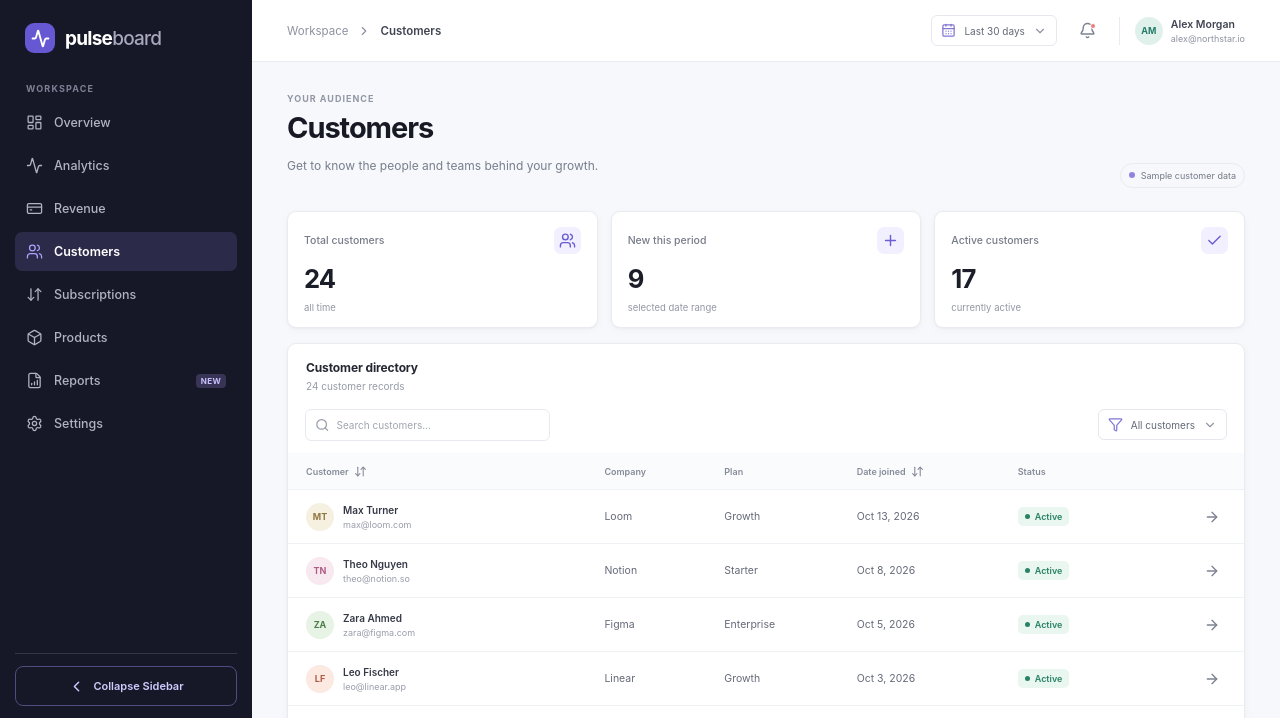
Test: PulseBoard application › filters subscriptions by status
Click the link "Subscriptions" at {"x": 81, "y": 294}, box [26, 286, 136, 303]
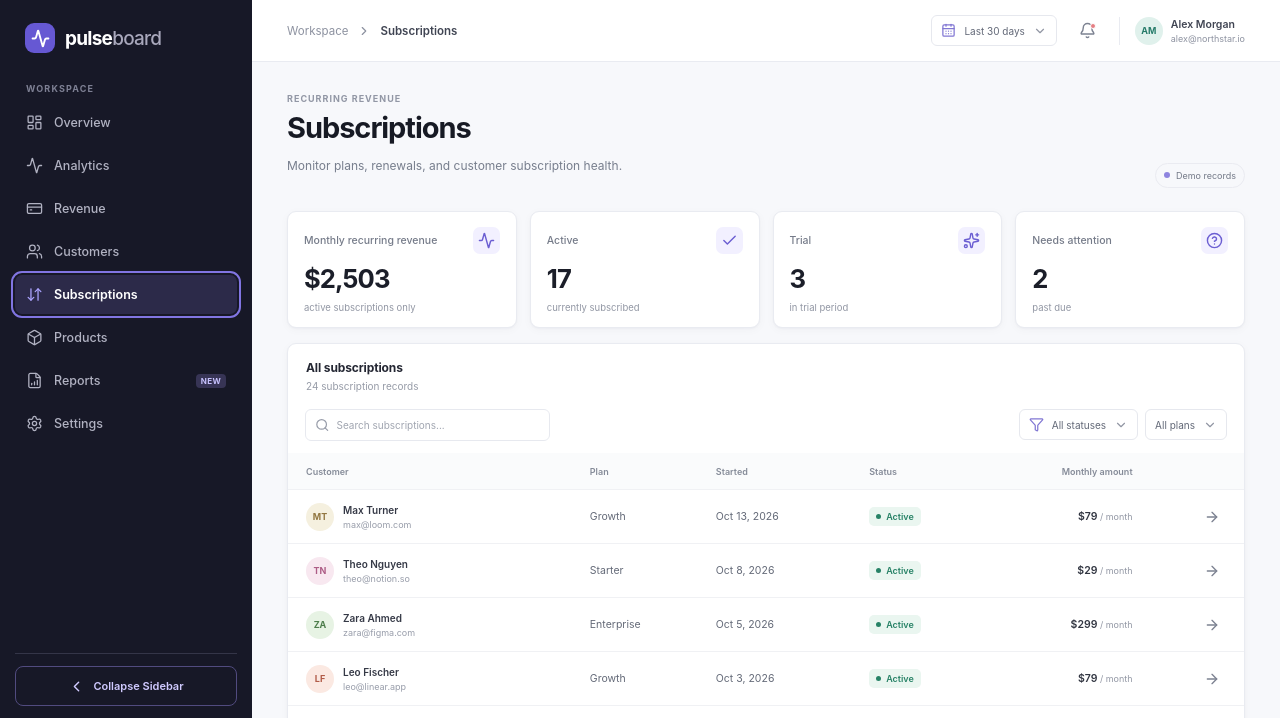
Click the button with aria-label "Filter subscriptions by status" at {"x": 1078, "y": 425}, box [1019, 409, 1138, 440]
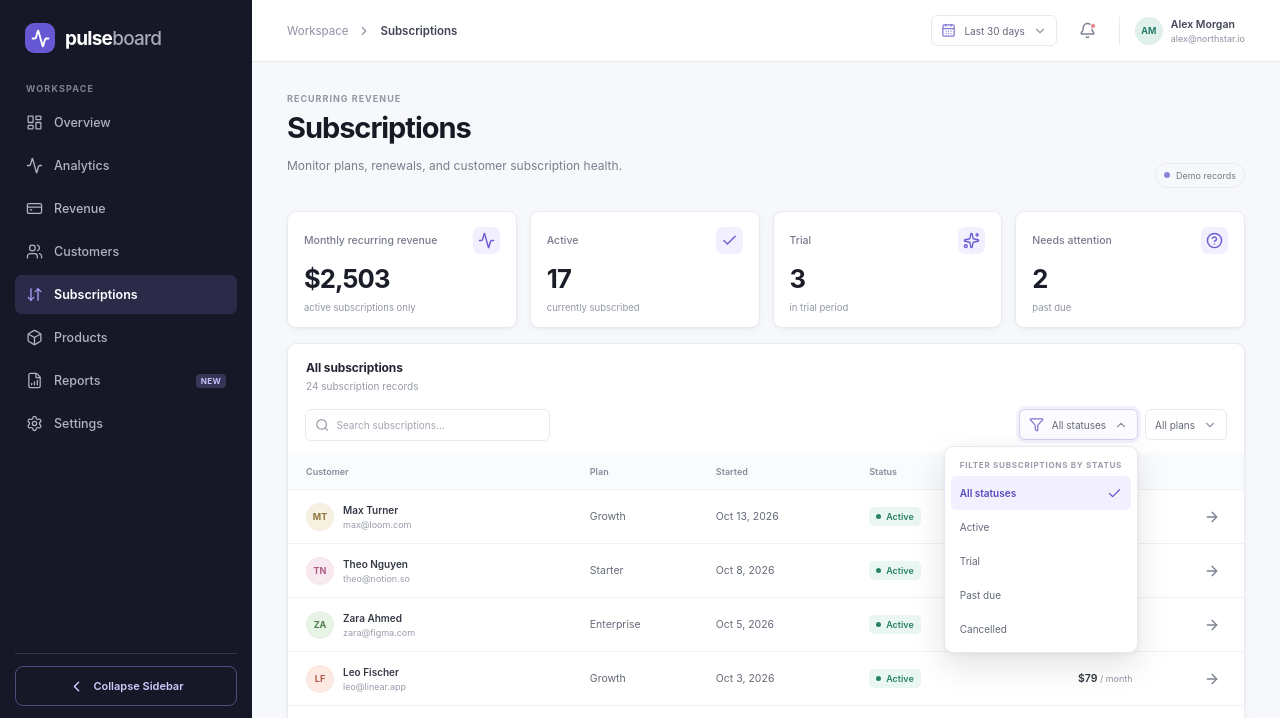
Click the option "Past due" at {"x": 1041, "y": 595}, box [951, 578, 1131, 612]
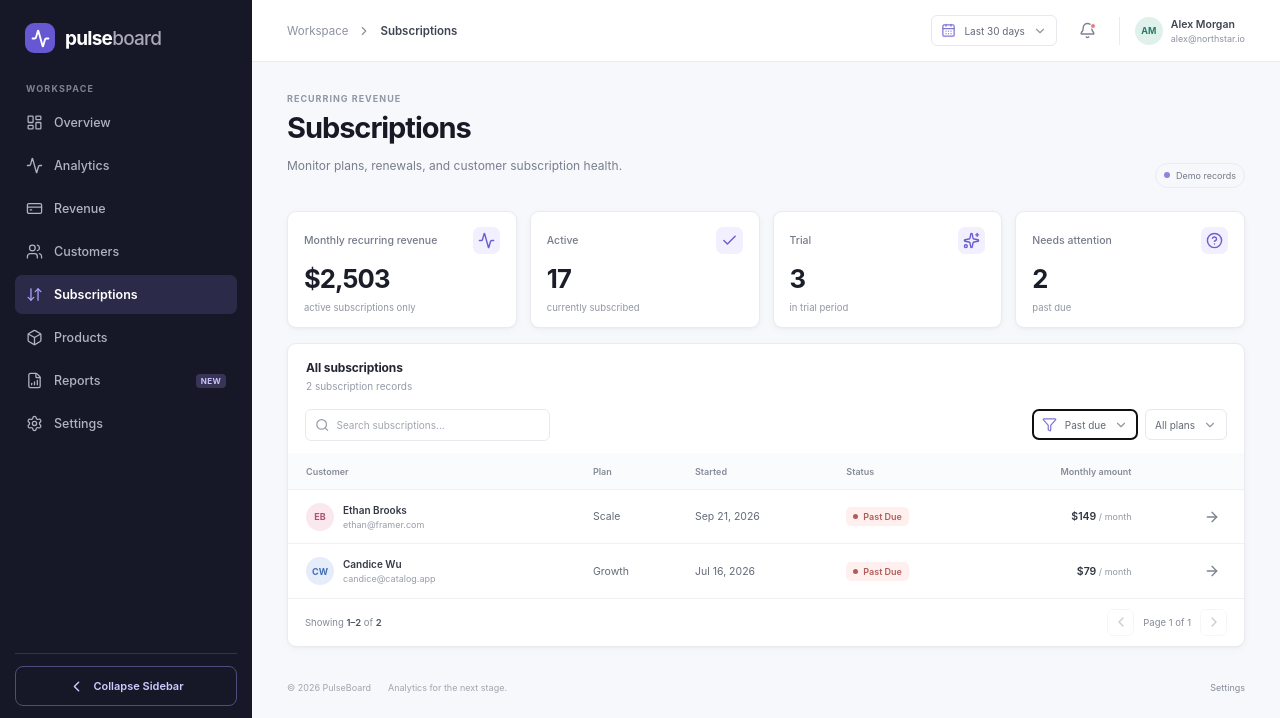
Result: the text "past due" in the row of "Ethan Brooks" is shown at [863, 511, 902, 522]
